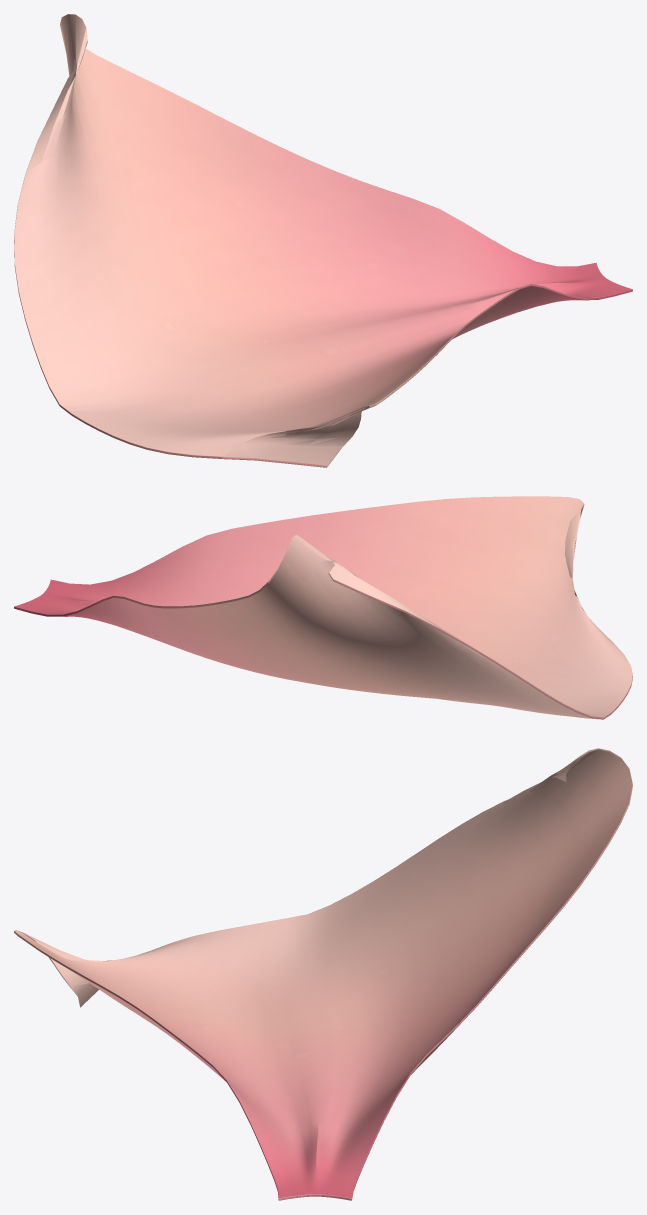
Rendered from papri3.glb.
The picture shows the model from 3 angles, top to bottom: view 1: azimuth 30°, elevation 25°; view 2: azimuth 150°, elevation 25°; view 3: azimuth 270°, elevation 25°; orthographic projection.
Parts seen in each view (by area): view 1: Papri_03; view 2: Papri_03; view 3: Papri_03.
Boxes of the visible parts, x1,y1,x2,y2 form: Papri_03: [14, 14, 632, 467]; Papri_03: [14, 496, 632, 719]; Papri_03: [14, 748, 632, 1200].
Size of the model in its own units: 1.16 by 0.5181 by 1.1.
Materials: 1 (1 with a texture image).
